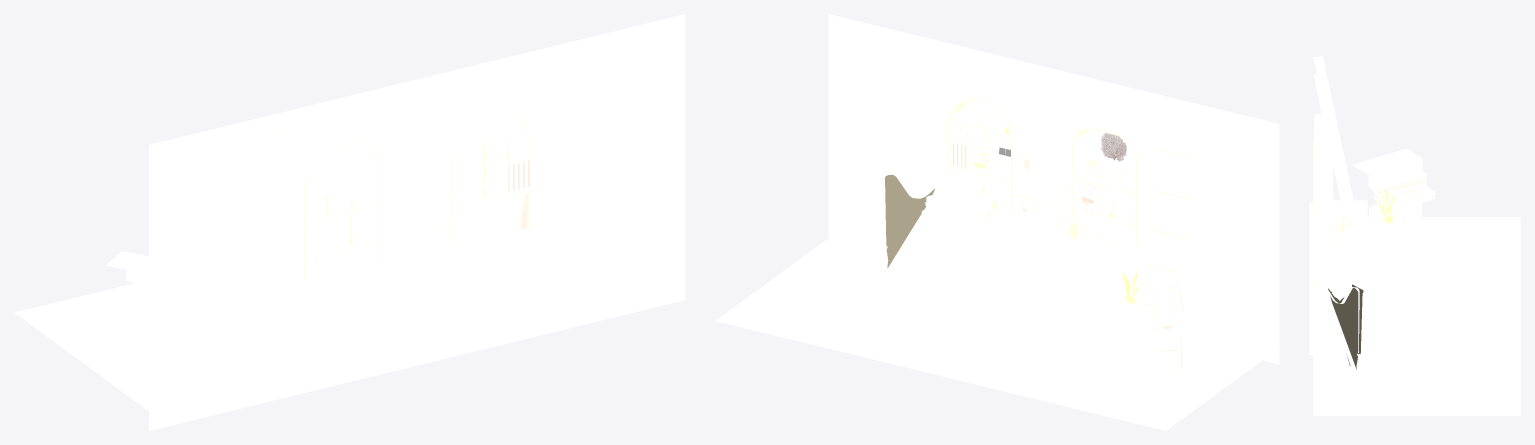
File: Cabinet_Objets_09.gltf
The picture shows the model from 3 angles, left to right: view 1: azimuth 30°, elevation 25°; view 2: azimuth 150°, elevation 25°; view 3: azimuth 270°, elevation 25°; orthographic projection. The views are drawn at different scales.
Visible parts, largest first — view 1: wall, desk, floor, herbier, PianoBody_Cube.024, cadran_solaire, arche2, arche1, desk_haut; view 2: wall, floor, desk, escalier, desk_haut, arche2, harpe, PianoBody_Cube.024, arche1, herbier, cordes, desk_bas (+8 smaller); view 3: floor, PianoBody_Cube.024, arche1, harpe, desk, escalier, desk_haut, cordes, arche2, Loft NURBS.2, Low-Poly_Plant_.001_Cube.000, Gramo_Opti (+3 smaller).
Boxes of the visible parts, left/top/right/bottom form: wall: left=149, top=14, right=685, bottom=430; desk: left=297, top=226, right=540, bottom=370; floor: left=15, top=280, right=686, bottom=412; herbier: left=563, top=93, right=607, bottom=169; PianoBody_Cube.024: left=106, top=251, right=148, bottom=353; cadran_solaire: left=251, top=194, right=293, bottom=256; arche2: left=304, top=139, right=383, bottom=281; arche1: left=452, top=105, right=532, bottom=244; desk_haut: left=294, top=223, right=541, bottom=288; wall: left=828, top=14, right=1279, bottom=364; floor: left=716, top=238, right=1280, bottom=430; desk: left=926, top=216, right=1154, bottom=328; escalier: left=1137, top=107, right=1205, bottom=347; desk_haut: left=921, top=196, right=1157, bottom=265; arche2: left=1072, top=119, right=1148, bottom=245; harpe: left=871, top=155, right=941, bottom=282; PianoBody_Cube.024: left=1149, top=268, right=1214, bottom=380; arche1: left=948, top=90, right=1023, bottom=214; herbier: left=893, top=80, right=931, bottom=145; cordes: left=885, top=174, right=934, bottom=267; desk_bas: left=923, top=280, right=1152, bottom=337; floor: left=1313, top=217, right=1520, bottom=415; PianoBody_Cube.024: left=1353, top=148, right=1435, bottom=257; arche1: left=1314, top=172, right=1332, bottom=288; harpe: left=1324, top=271, right=1372, bottom=384; desk: left=1309, top=202, right=1365, bottom=354; escalier: left=1313, top=56, right=1353, bottom=200; desk_haut: left=1312, top=200, right=1367, bottom=294; cordes: left=1328, top=284, right=1363, bottom=369; arche2: left=1314, top=114, right=1332, bottom=172; Loft NURBS.2: left=1370, top=305, right=1402, bottom=337; Low-Poly_Plant_.001_Cube.000: left=1374, top=185, right=1398, bottom=231; Gramo_Opti: left=1342, top=249, right=1372, bottom=286.
Size of what is drawn, in the model's own units: 500 by 255 by 224.
Materials: 17 (1 with a texture image).
